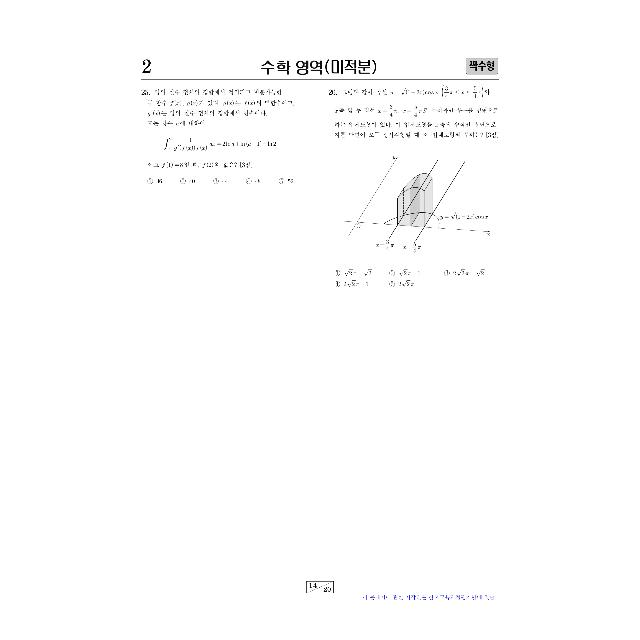multiple: (324, 83, 508, 297), (138, 84, 318, 192)
